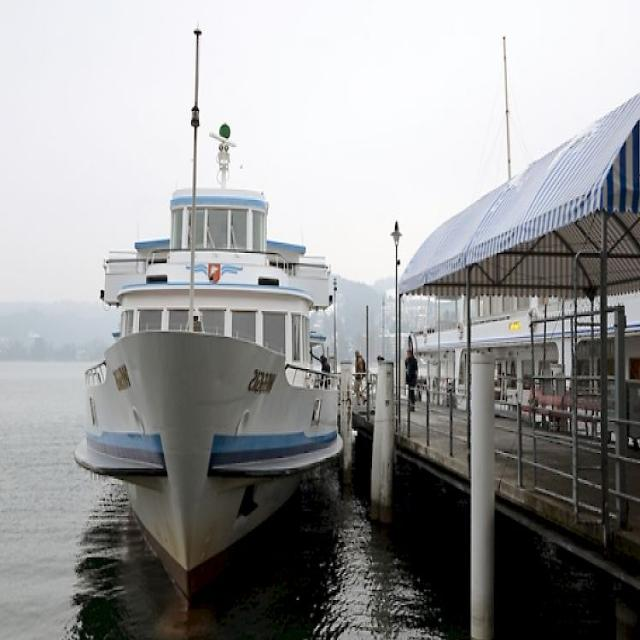passenger ship: (82, 166, 343, 562)
